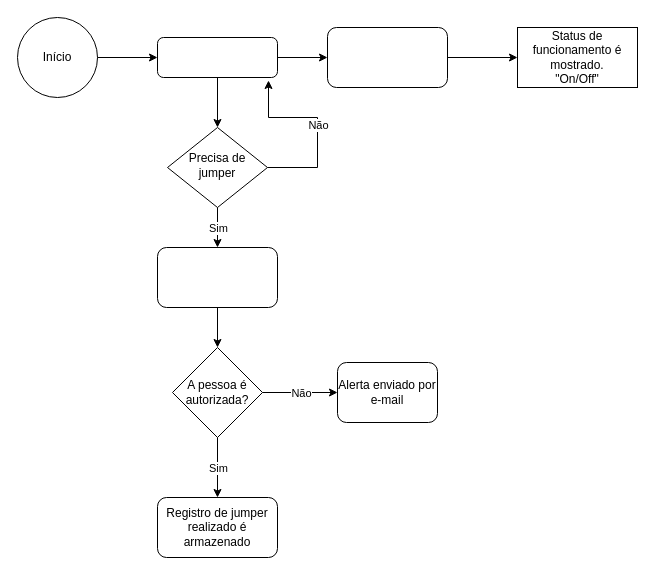
Image size: 655x575. Some labels were removed from this diagram. The shapes that lost their labels are listed below. From the top down, each one's box as (x1, y1, x2, y2) in pixels, then its label:
(156, 36, 278, 78): Máquina funcionando
(326, 26, 448, 88): Câmera utilizando Motion Magnification
(156, 246, 278, 308): Registro de jumper realizado por Digital
